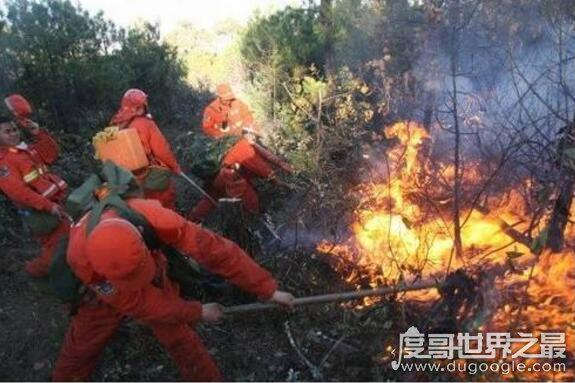fire: (323, 115, 571, 374)
